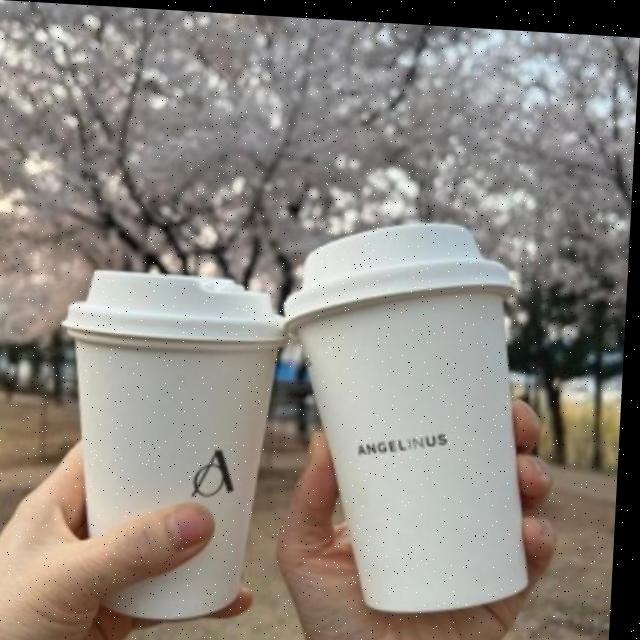cup: (301, 286, 533, 607), (76, 330, 282, 617)
